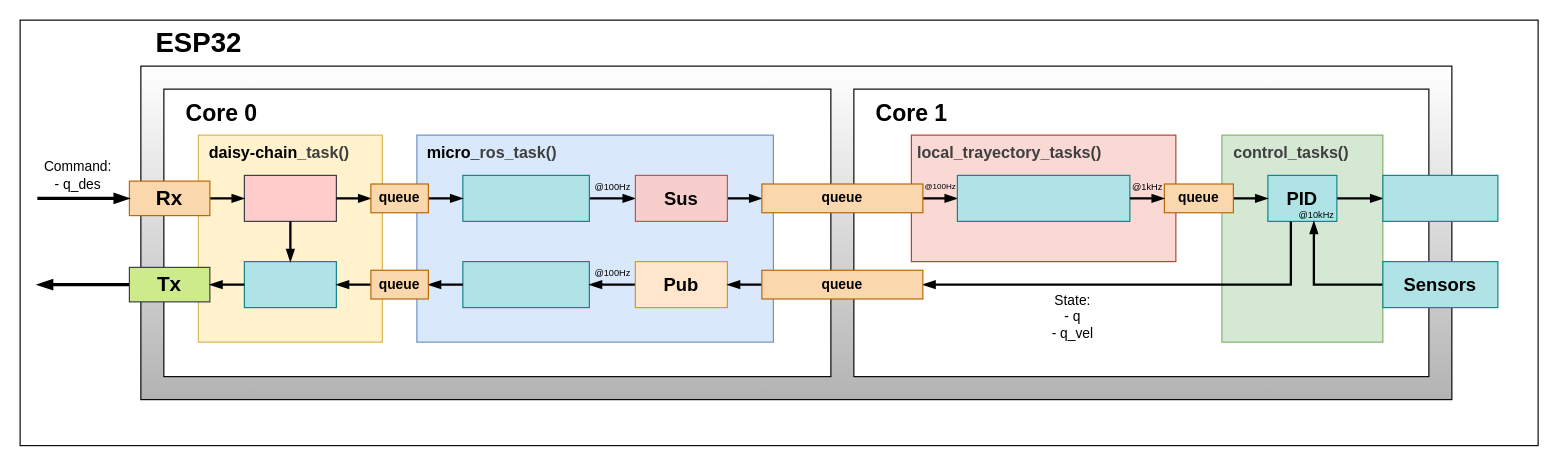
Some shapes in this 1558 by 466 pixel diagram are drawn without their labels. Here are the shapes that lost their labels. From the top down, the centre of each, then its label:
the point at 289,197: ID_filter()
the point at 525,197: xrce_read()
the point at 1043,197: local_traj_track()
the point at 1440,197: Actuator
the point at 289,284: Tx()
the point at 525,284: xrce_write()
